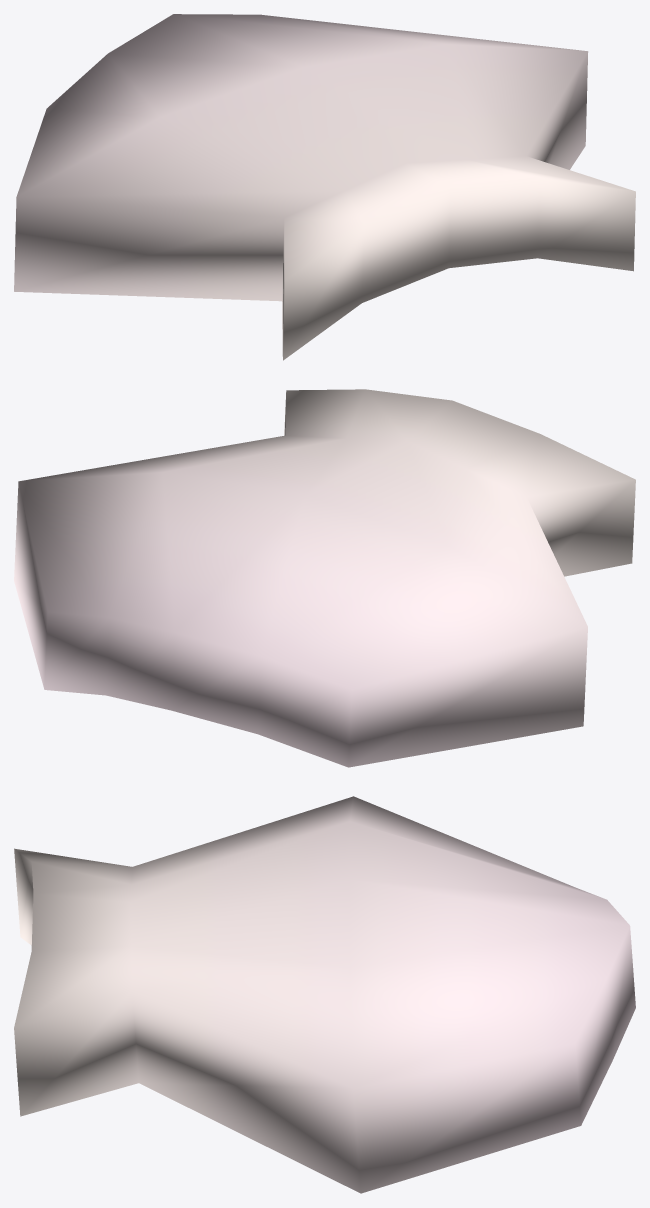
File: shell1.fbx
3 views of the same model, one above another, from view 1: azimuth 30°, elevation 25°; view 2: azimuth 150°, elevation 25°; view 3: azimuth 270°, elevation 25° (orthographic). The views are drawn at different scales.
Visible parts, largest first — view 1: Cylinder.018; view 2: Cylinder.018; view 3: Cylinder.018.
Part boxes in pixels (bbox=[...]): Cylinder.018: bbox=[14, 14, 635, 360]; Cylinder.018: bbox=[14, 389, 635, 767]; Cylinder.018: bbox=[14, 796, 635, 1193].
Size of the model in its own units: 9.61 by 2.55 by 8.43.
